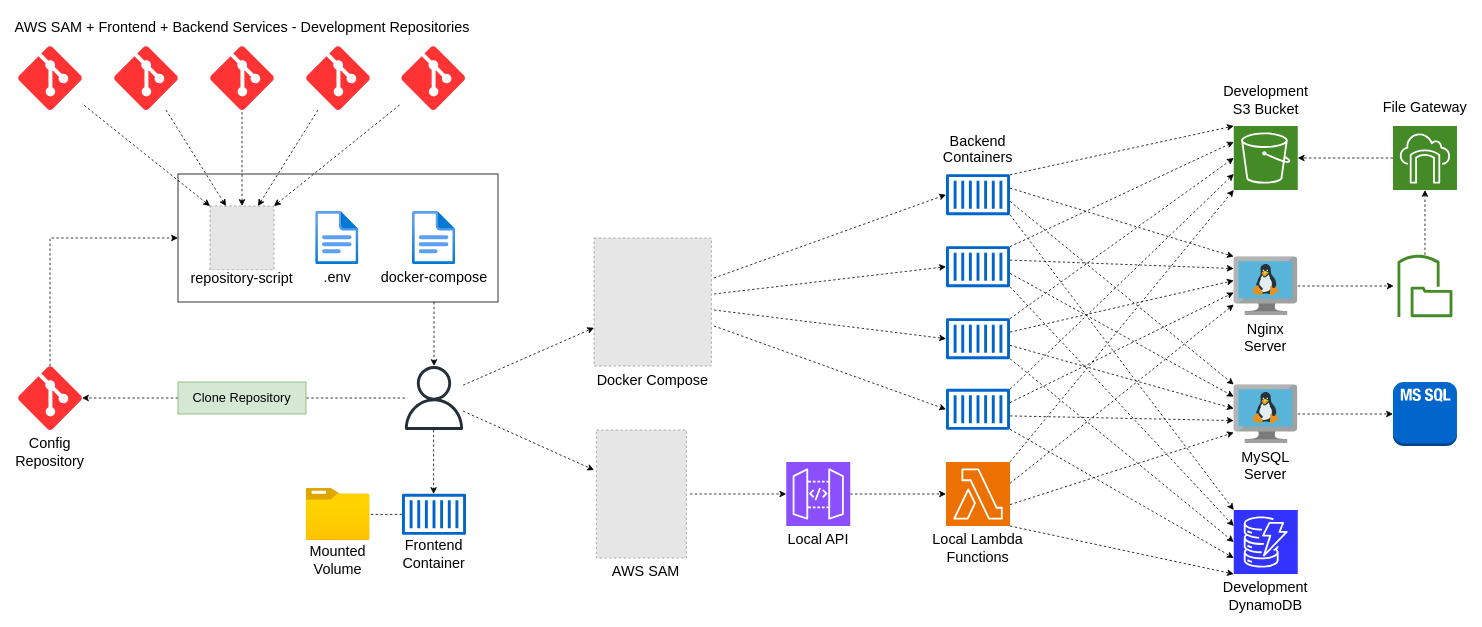
This 1482x627 diagram has some shape labels left out. Grey dashed boxes stand in for pictures. Here are the shapes that lost their labels. From the top down, the centre of each, then its label:
At pixel 1424 285: "S3 Gateway".
At pixel 1424 413: "MySQL".
